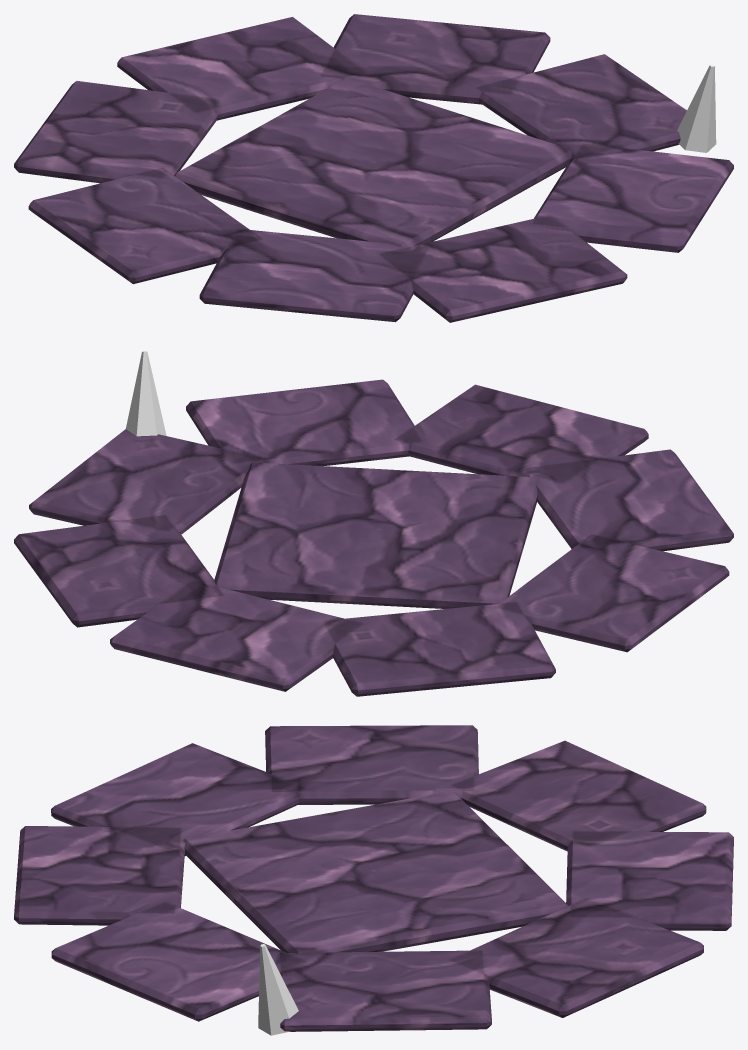
File: mapkit_pad_crystal.fbx
3 renders of one model, top to bottom at view 1: azimuth 30°, elevation 25°; view 2: azimuth 150°, elevation 25°; view 3: azimuth 270°, elevation 25°, orthographic. The views are drawn at different scales.
Visible parts, largest first — view 1: Body, c_115_230_255; view 2: Body, c_115_230_255; view 3: Body, c_115_230_255.
Boxes of the visible parts, bbox=[...] form: Body: bbox=[14, 14, 733, 322]; c_115_230_255: bbox=[677, 64, 716, 152]; Body: bbox=[14, 379, 733, 696]; c_115_230_255: bbox=[126, 351, 166, 436]; Body: bbox=[14, 725, 733, 1031]; c_115_230_255: bbox=[258, 944, 298, 1035].
Size of the model in its own units: 680 by 92.64 by 694.
1 material, 1 textured.
